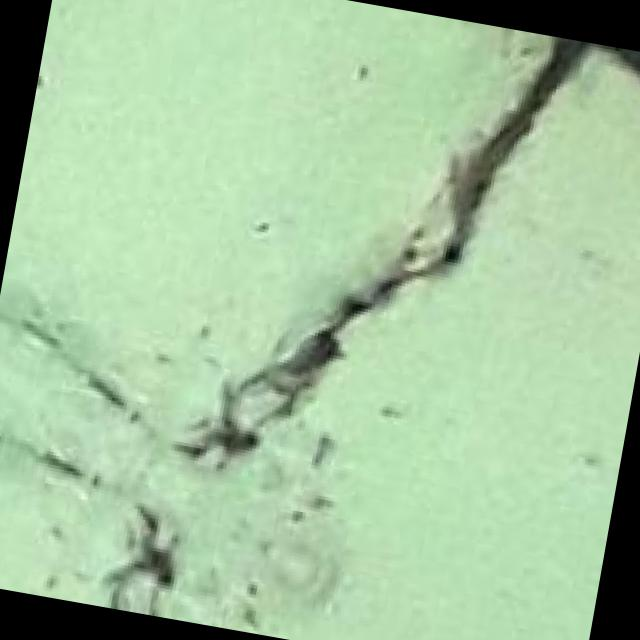crack: (172, 0, 640, 514)
